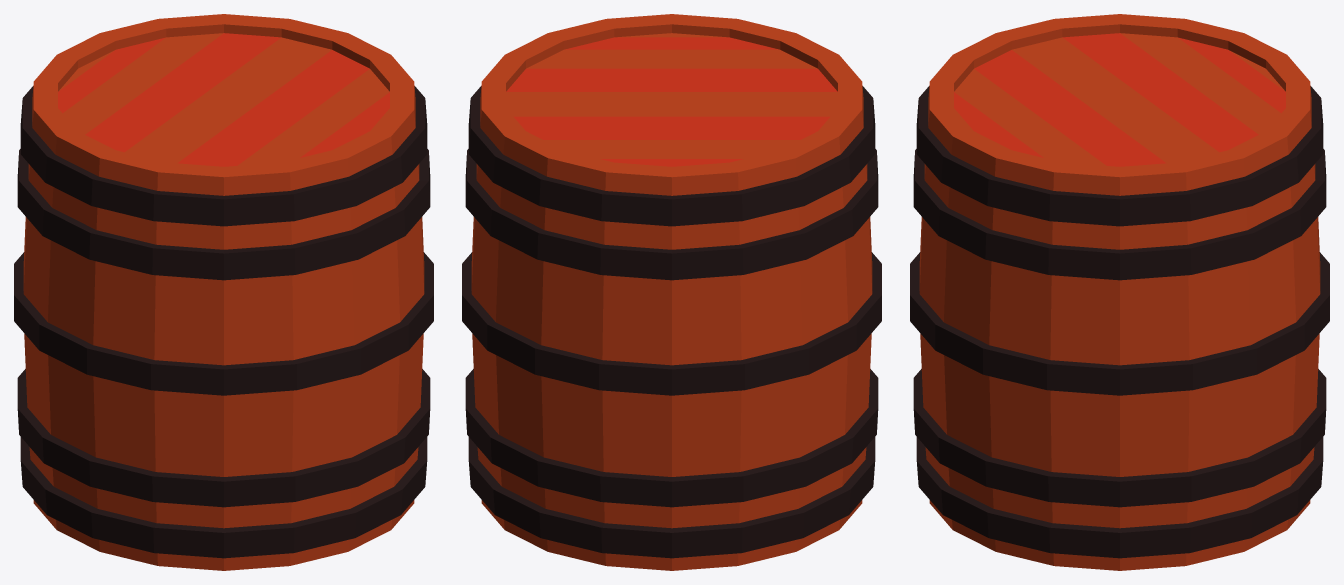
File: barrel.FBX
3 views of the same model, side by side, from view 1: azimuth 30°, elevation 25°; view 2: azimuth 150°, elevation 25°; view 3: azimuth 270°, elevation 25° (orthographic).
Visible parts, largest first — view 1: WoodenBarrel; view 2: WoodenBarrel; view 3: WoodenBarrel.
Boxes of the visible parts, bbox=[...] form: WoodenBarrel: bbox=[14, 14, 433, 570]; WoodenBarrel: bbox=[462, 14, 881, 570]; WoodenBarrel: bbox=[910, 14, 1329, 570].
Size of the model in its own units: 44.16 by 45 by 43.49.
